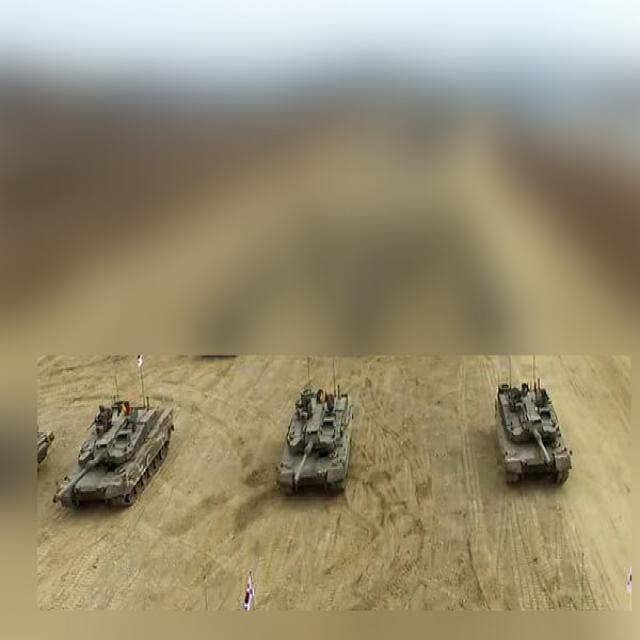tank: (53, 399, 175, 509), (275, 386, 354, 496), (493, 377, 572, 486)
